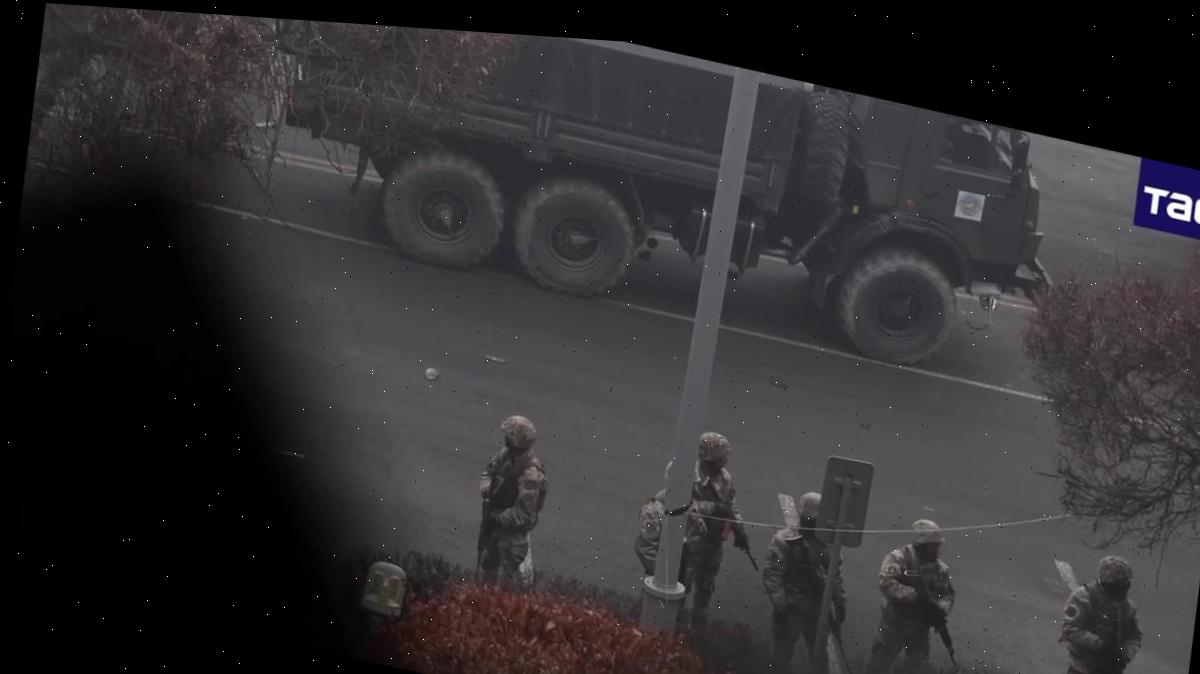person: (747, 482, 885, 674), (669, 426, 782, 638), (862, 509, 980, 674), (461, 405, 562, 596), (1048, 545, 1157, 674)
truck: (249, 17, 1086, 396)
